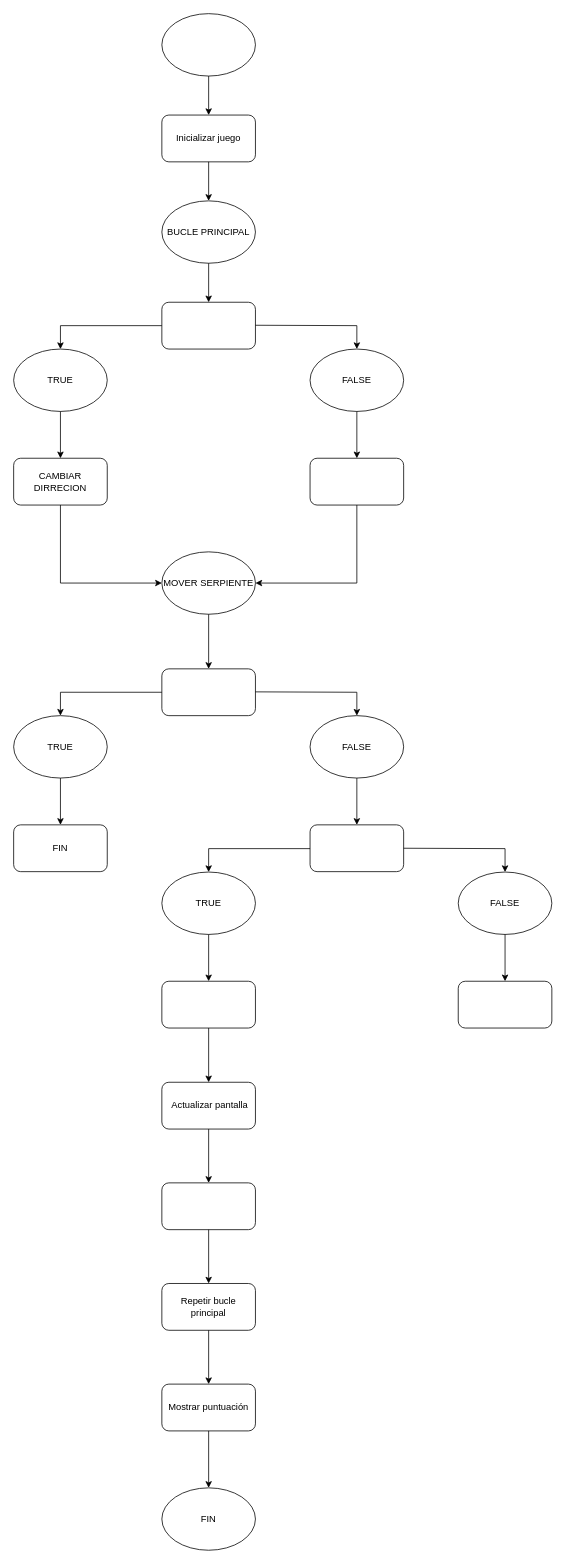
The diagram is 566 pixels wide and 1564 high, and some of its shapes have lost their labels. Here are the shapes that lost their labels. From the top down, the centre of each, then its label:
[208,44]: INICIO
[208,325]: ¿Se pulsa tecla de dirección?
[356,481]: MANTENER DIRRECION
[208,692]: ¿Colisión con borde o consigo misma?
[356,848]: ¿Cabeza toca comida?
[208,1004]: Aumentar longitud
[504,1004]: Mantener longitud
[208,1206]: Esperar intervalo de tiempo
